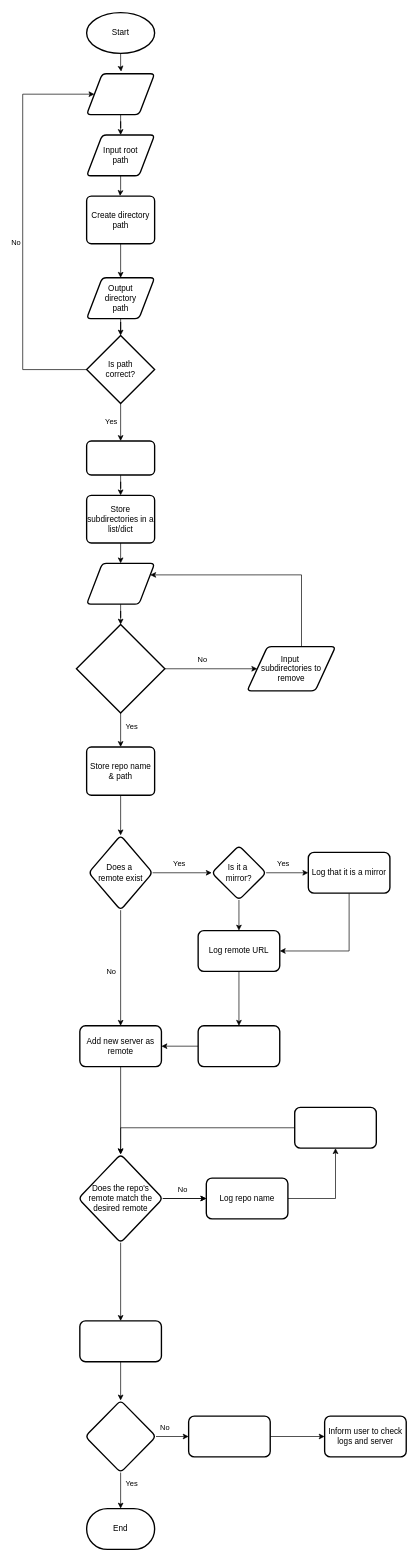
This 419x1561 diagram has some shape labels left out. The shapes that lost their labels are listed below. From the top down, each one's box as (x1, y1, x2, y2) in pixels, then its label:
(86, 73, 155, 115): Input root folder
(86, 440, 155, 475): Find all subdirectories
(86, 562, 155, 605): Print list/dict
(75, 624, 165, 713): Migrate listed subdirectories?
(197, 1025, 280, 1067): Remove remotes
(294, 1106, 377, 1149): Remove from list
(79, 1320, 162, 1362): Push repos to remote server
(84, 1399, 156, 1473): Repo pushed successfully?
(188, 1415, 271, 1457): Log repo information
